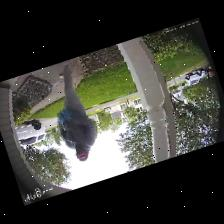person: (58, 60, 95, 160)
